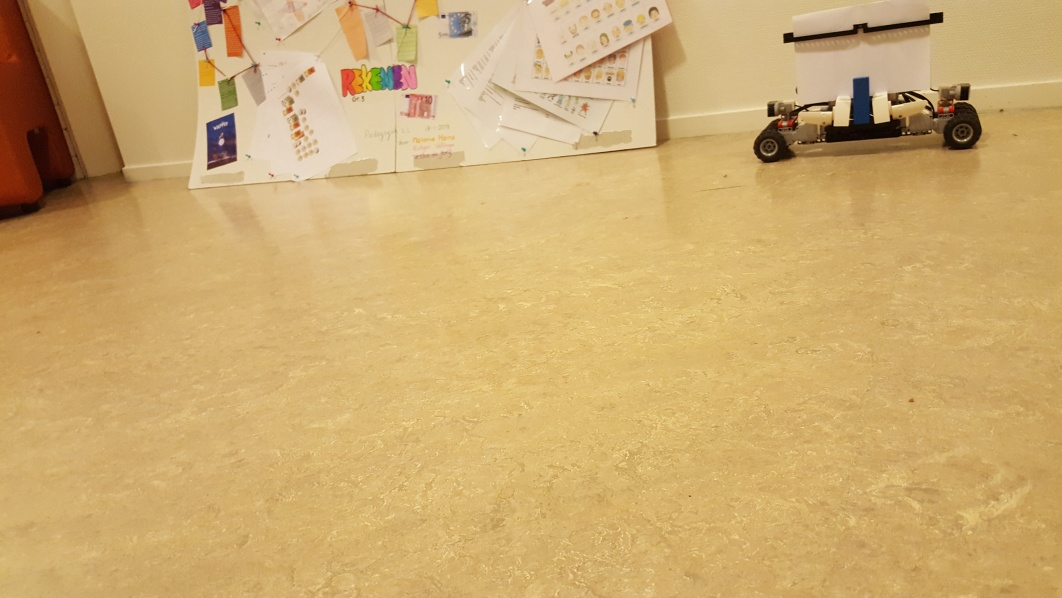beam: (853, 74, 873, 127)
